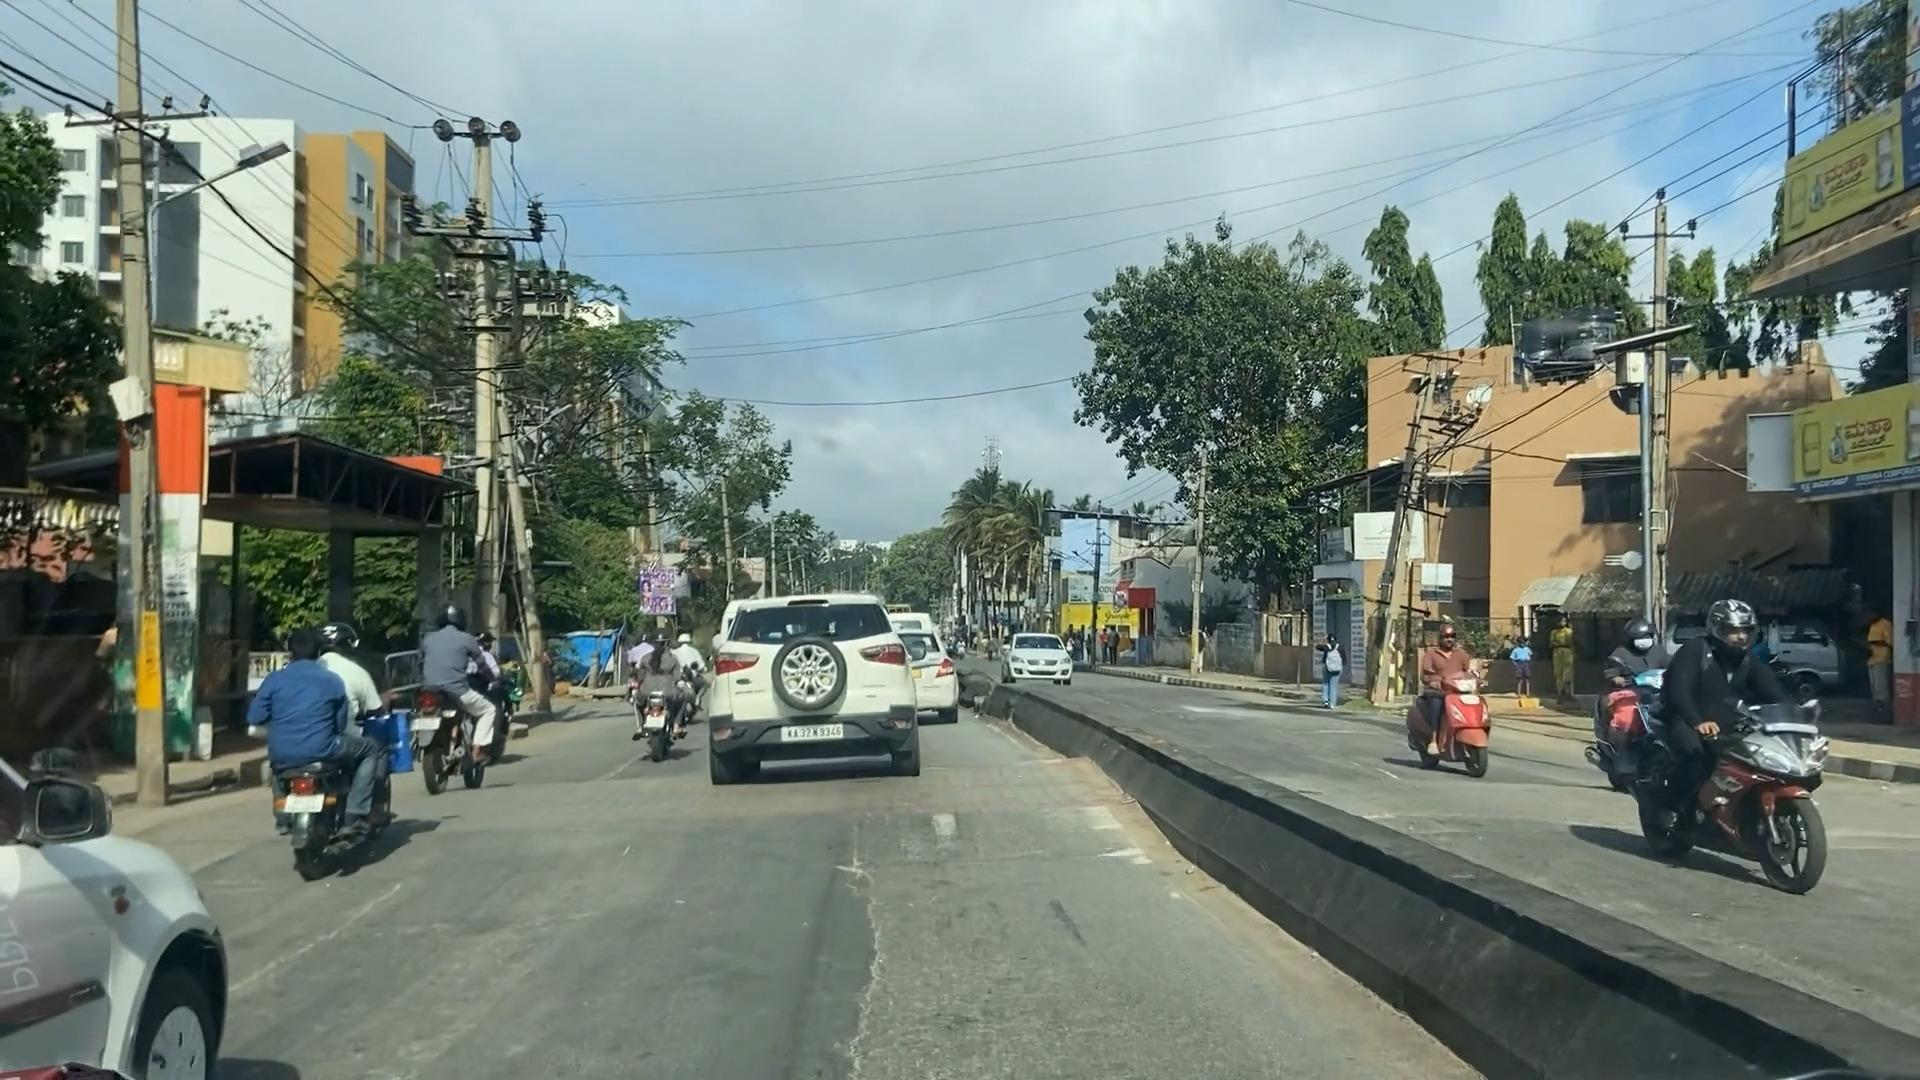LMV: (258, 608, 398, 872), (704, 603, 907, 770), (406, 608, 500, 789), (636, 642, 680, 749)
RoadDamages: (244, 876, 401, 996), (822, 808, 882, 1080)
SpeedBump: (426, 765, 1170, 869)
